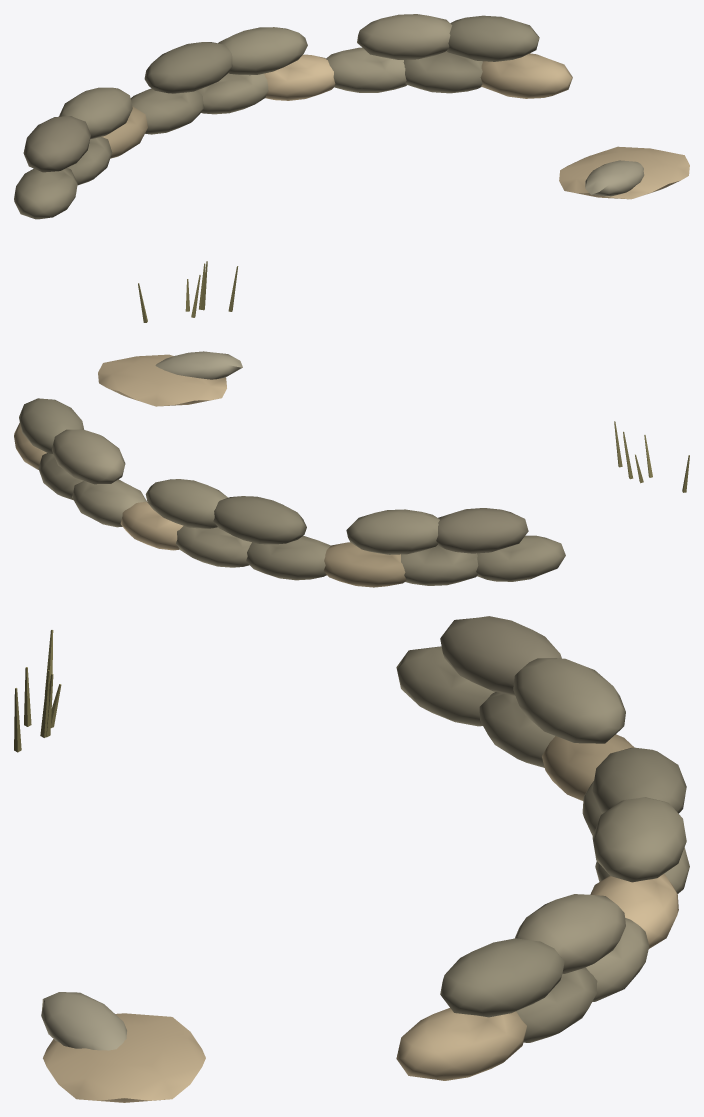
File: sandbags_b.glb
3 renders of one model, top to bottom at view 1: azimuth 30°, elevation 25°; view 2: azimuth 150°, elevation 25°; view 3: azimuth 270°, elevation 25°, orthographic. The views are drawn at different scales.
Parts seen in each view (by area): view 1: Surface; view 2: Surface; view 3: Surface.
Boxes of the visible parts, x1=… form: Surface: x1=14, y1=14, x2=689, y2=322; Surface: x1=14, y1=351, x2=689, y2=587; Surface: x1=14, y1=616, x2=689, y2=1102.
Bounding box in the file's own units: 7.87 × 1.02 × 5.28.
